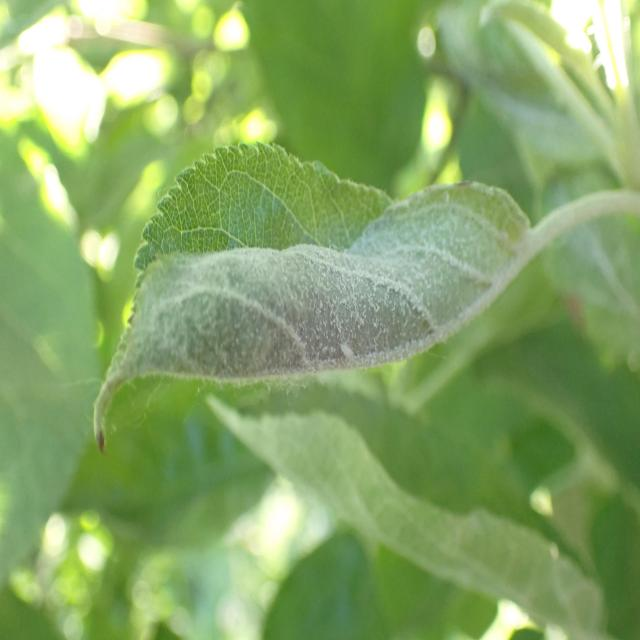Powdery_mildew: (75, 137, 553, 411)
